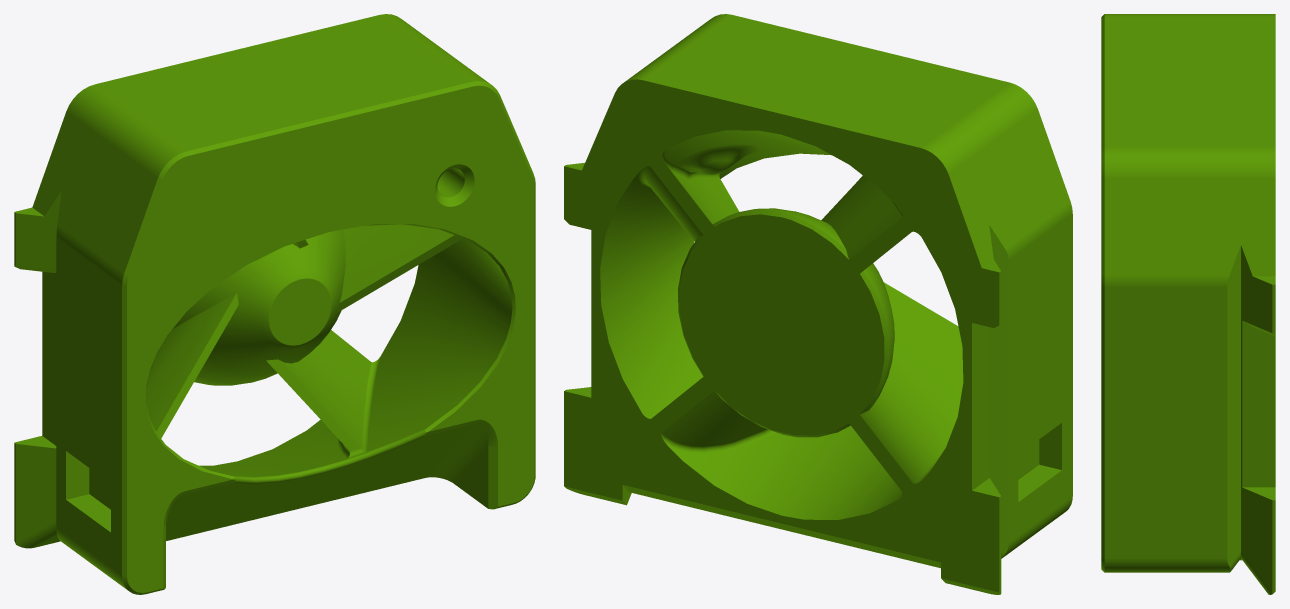
Rendered from A4T HE Duct - Bambulab.gltf.
The picture shows the model from 3 angles, left to right: view 1: azimuth 30°, elevation 25°; view 2: azimuth 150°, elevation 25°; view 3: azimuth 270°, elevation 25°; orthographic projection. The views are drawn at different scales.
Parts seen in each view (by area): view 1: A4T HE Duct - Bambulab; view 2: A4T HE Duct - Bambulab; view 3: A4T HE Duct - Bambulab.
Boxes of the visible parts, x1=… form: A4T HE Duct - Bambulab: x1=14, y1=14, x2=535, y2=594; A4T HE Duct - Bambulab: x1=564, y1=14, x2=1072, y2=594; A4T HE Duct - Bambulab: x1=1101, y1=14, x2=1275, y2=594.
Size of the model in its own units: 0.0287 by 0.0273 by 0.0104.
